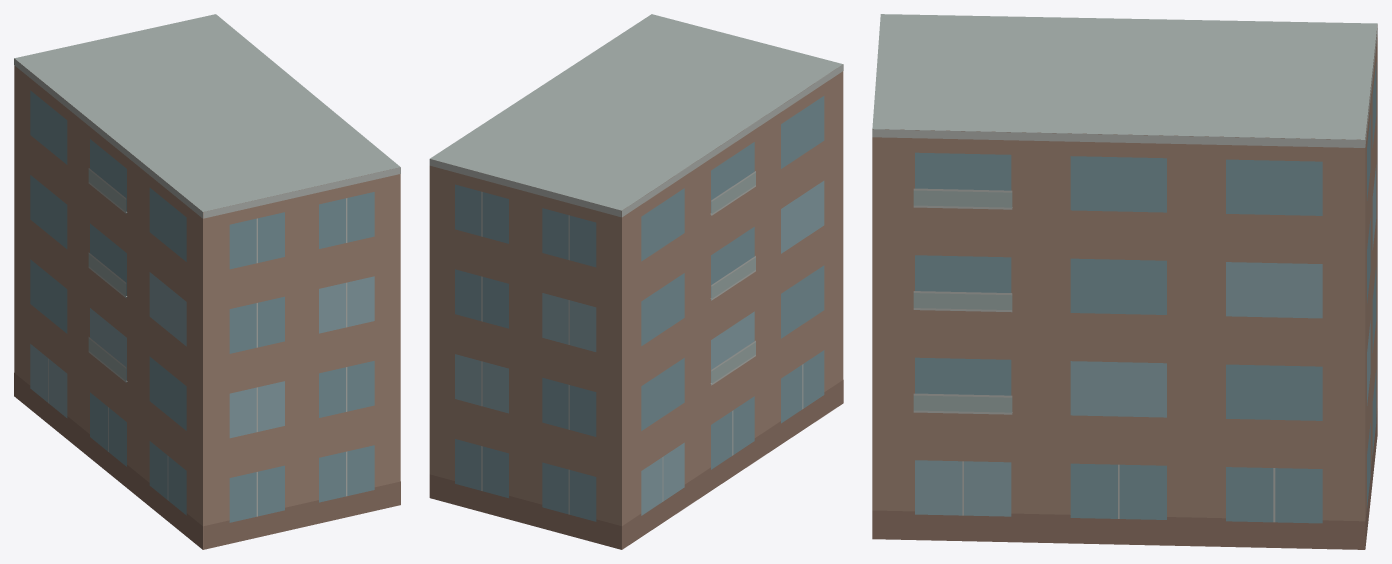
File: survey-upis-32811506.glb
3 views of the same model, side by side, from view 1: azimuth 30°, elevation 25°; view 2: azimuth 150°, elevation 25°; view 3: azimuth 270°, elevation 25° (orthographic). The views are drawn at different scales.
Visible parts, largest first — view 1: survey-upis-32811506.tmp; view 2: survey-upis-32811506.tmp; view 3: survey-upis-32811506.tmp.
Part boxes in pixels (<box>): survey-upis-32811506.tmp: <box>14,14,400,549</box>; survey-upis-32811506.tmp: <box>429,14,843,549</box>; survey-upis-32811506.tmp: <box>872,14,1377,549</box>.
Bounding box in the file's own units: 8.04 × 12.2 × 13.64.
